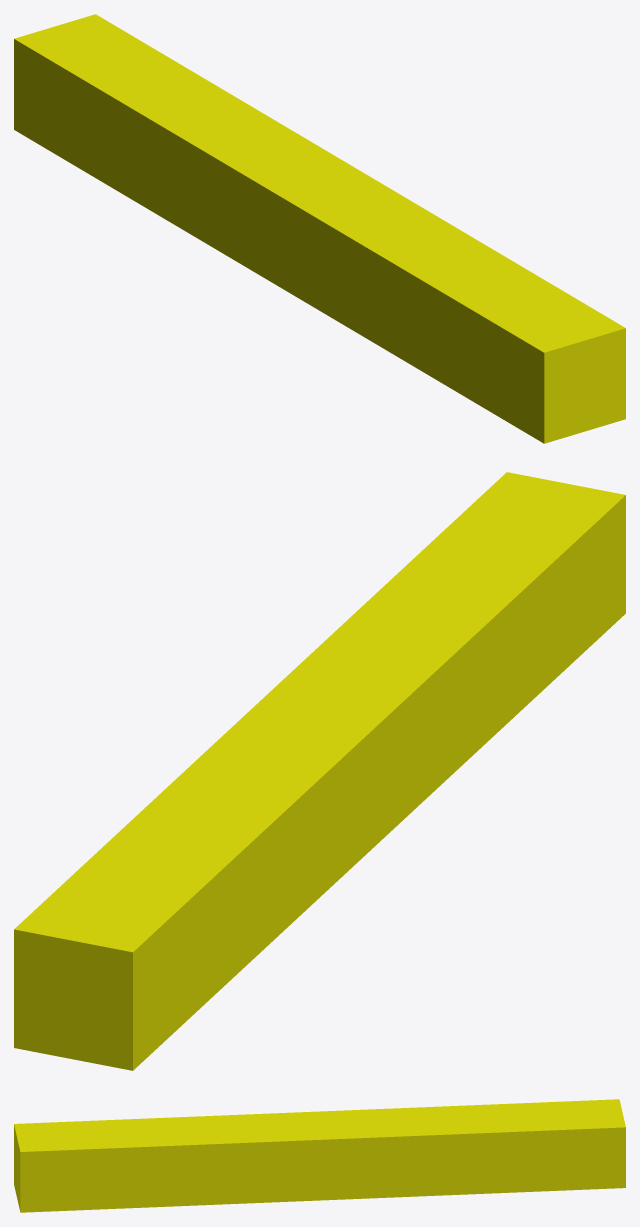
Rendered from OJ Grapple Area.fbx.
3 renders of one model, top to bottom at view 1: azimuth 30°, elevation 25°; view 2: azimuth 150°, elevation 25°; view 3: azimuth 270°, elevation 25°, orthographic. The views are drawn at different scales.
Visible parts, largest first — view 1: grapplearea; view 2: grapplearea; view 3: grapplearea.
Part boxes in pixels (x1,y1,x2,y2): grapplearea: (14,14,625,443); grapplearea: (14,472,625,1070); grapplearea: (14,1099,625,1212).
Size of the model in its own units: 0.2142 by 0.1146 by 1.05.
